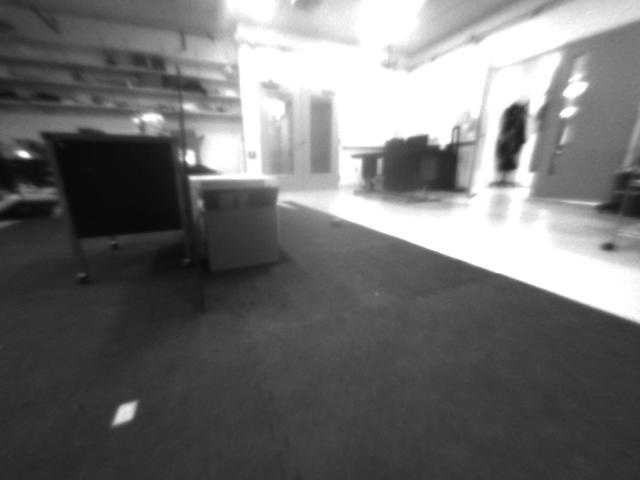dogtoy: (322, 212, 353, 237)
